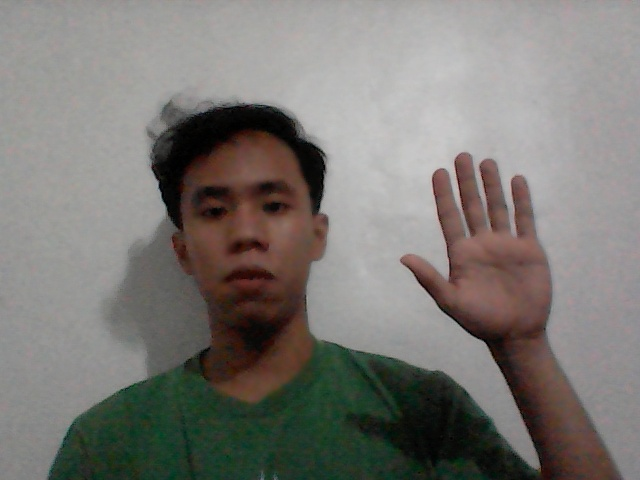Hello: (388, 130, 581, 372)
